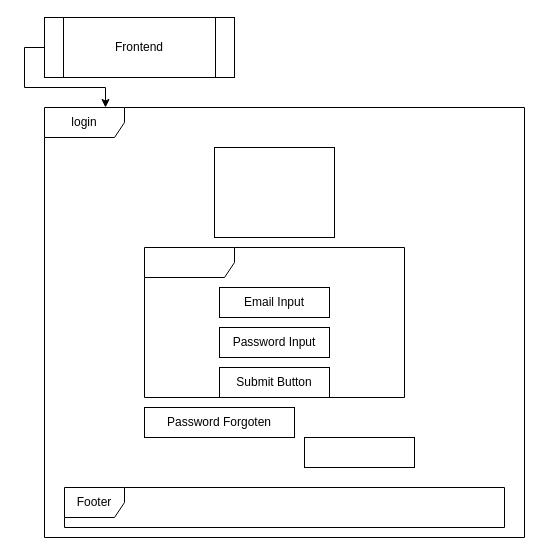
Image size: 542x555. Some labels were removed from this diagram. The box of each missing label's shape, as (x1, y1, x2, y2) in pixels:
Create Account: (304, 436, 414, 468)
Form: (144, 246, 404, 398)
Logo: (214, 146, 334, 238)
